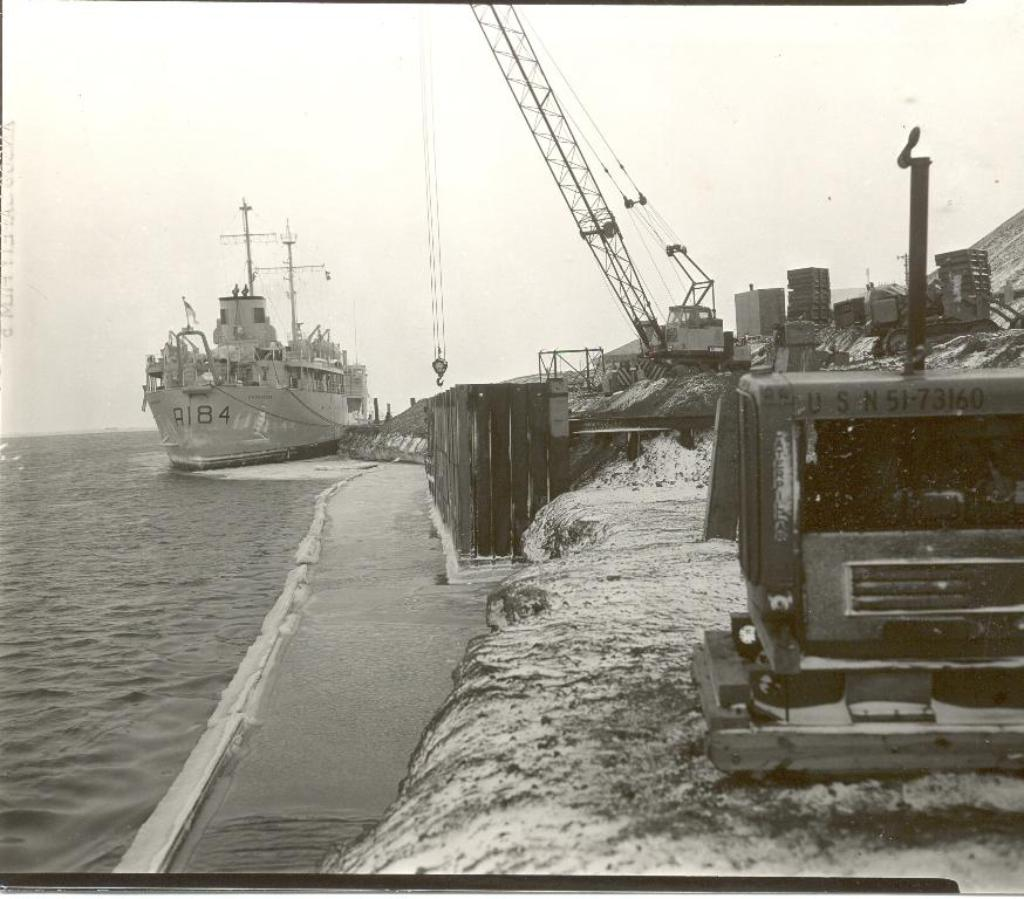Warship: (130, 202, 408, 480)
